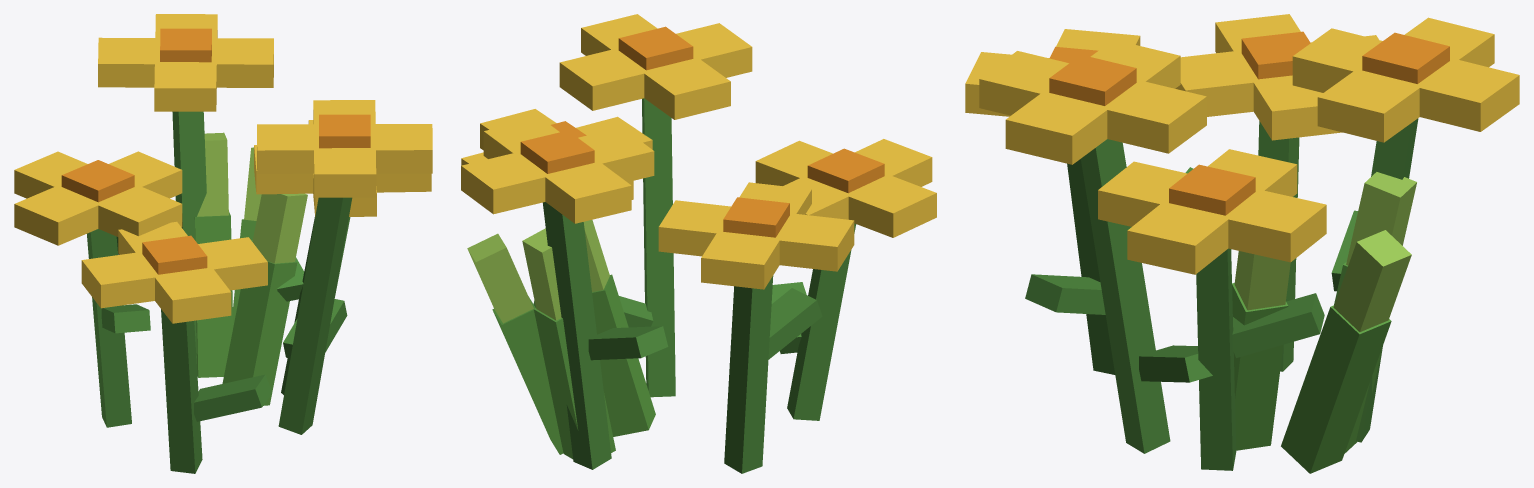
Rendered from B04_flowers_yellow.obj.
3 renders of one model, left to right at view 1: azimuth 30°, elevation 25°; view 2: azimuth 150°, elevation 25°; view 3: azimuth 270°, elevation 25°, orthographic. The views are drawn at different scales.
Visible parts, largest first — view 1: B04_flowers_yellow; view 2: B04_flowers_yellow; view 3: B04_flowers_yellow.
Boxes of the visible parts, x1=… form: B04_flowers_yellow: x1=14, y1=14, x2=432, y2=473; B04_flowers_yellow: x1=461, y1=14, x2=936, y2=473; B04_flowers_yellow: x1=965, y1=14, x2=1519, y2=473.
Size of the model in its own units: 0.8521 by 0.6795 by 0.8641.
